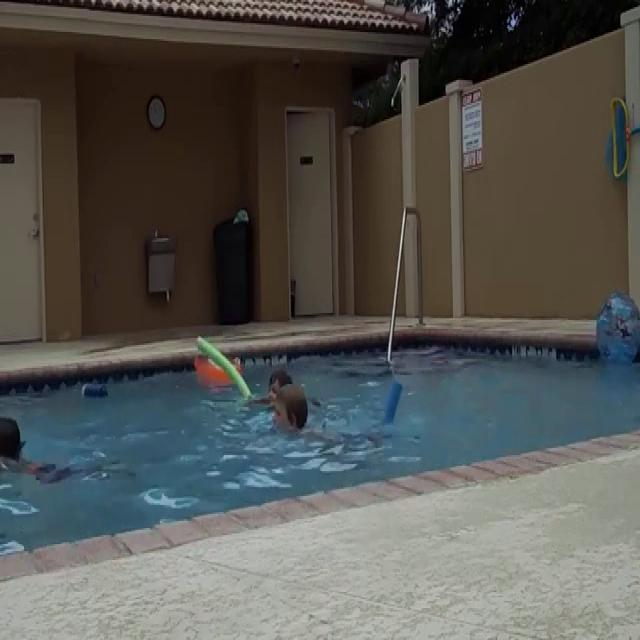child: (270, 382, 306, 441), (252, 366, 290, 419)
